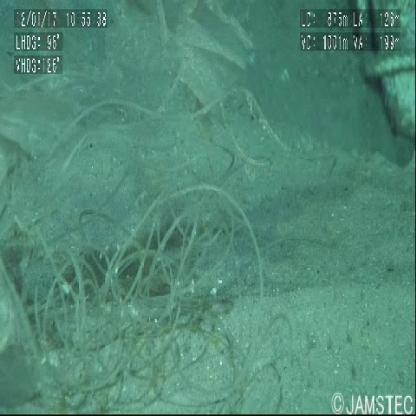Rác: (1, 94, 308, 411)
